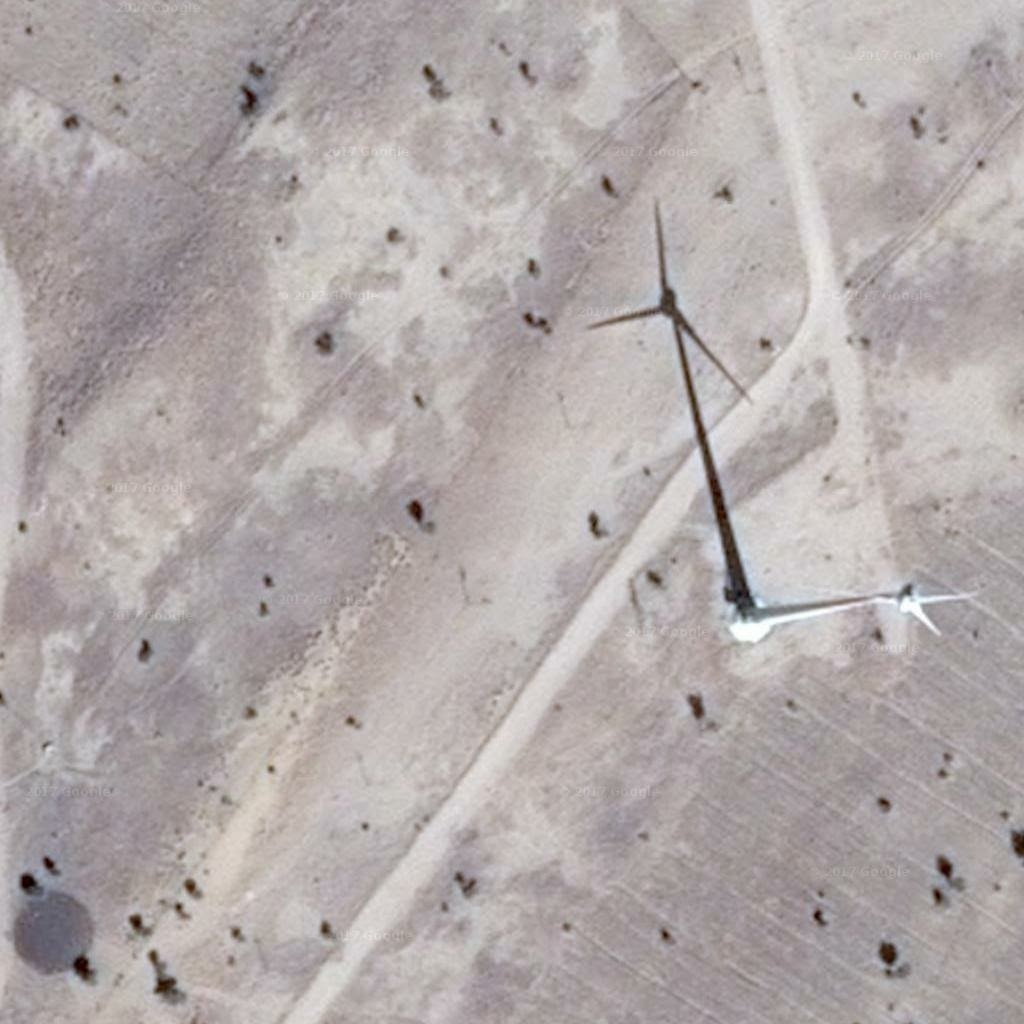Windmill: (595, 185, 763, 579)
